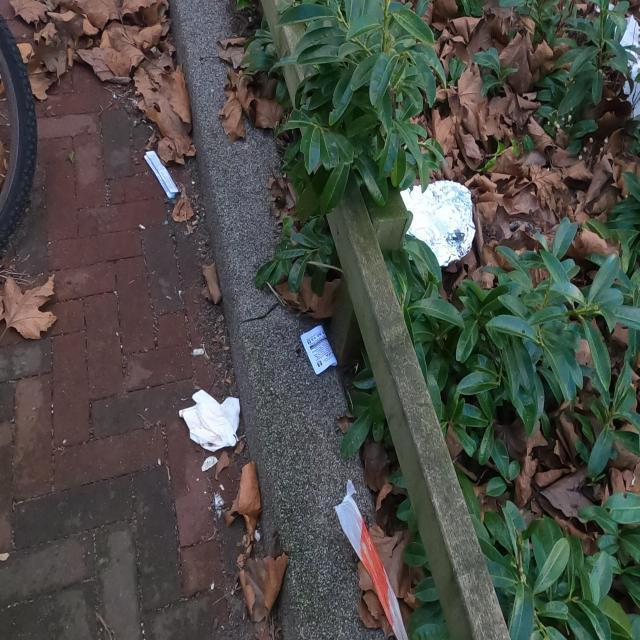Paper: (178, 387, 241, 454), (300, 324, 338, 377)
Plastic: (399, 178, 476, 268)
